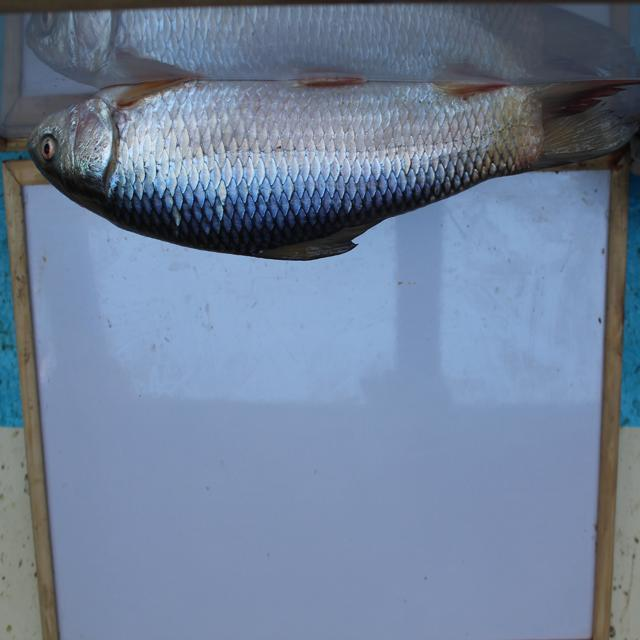Mori: (28, 78, 584, 266)
